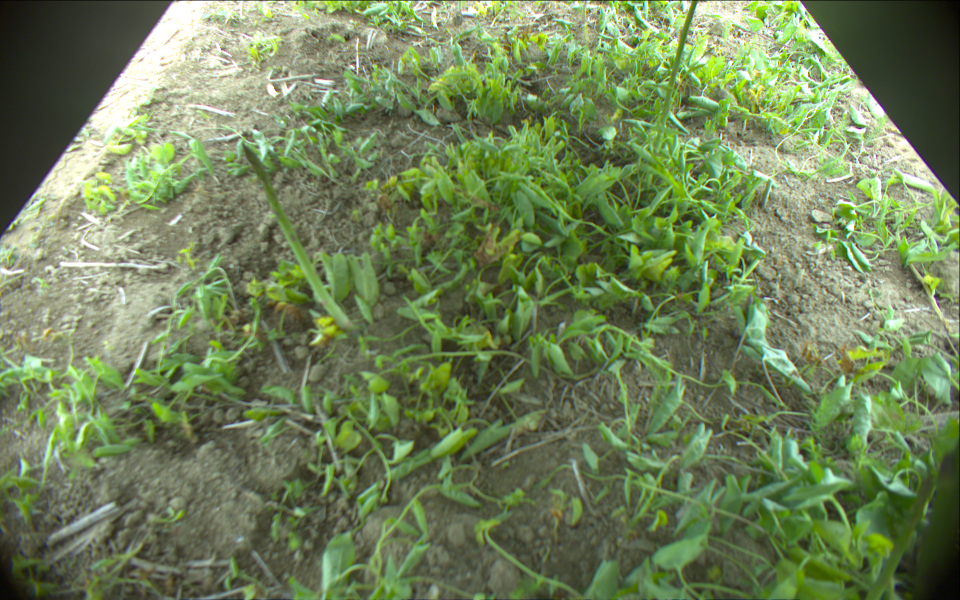aspa: (242, 143, 351, 326), (655, 1, 699, 148)
